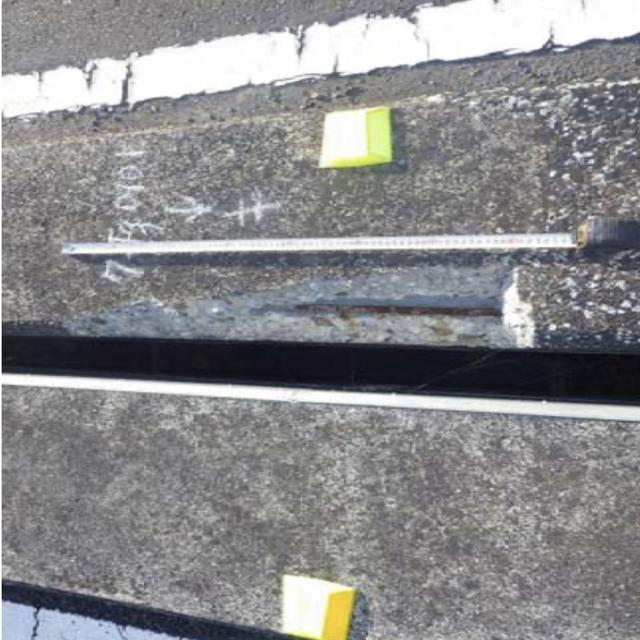spalling: (63, 273, 548, 377)
